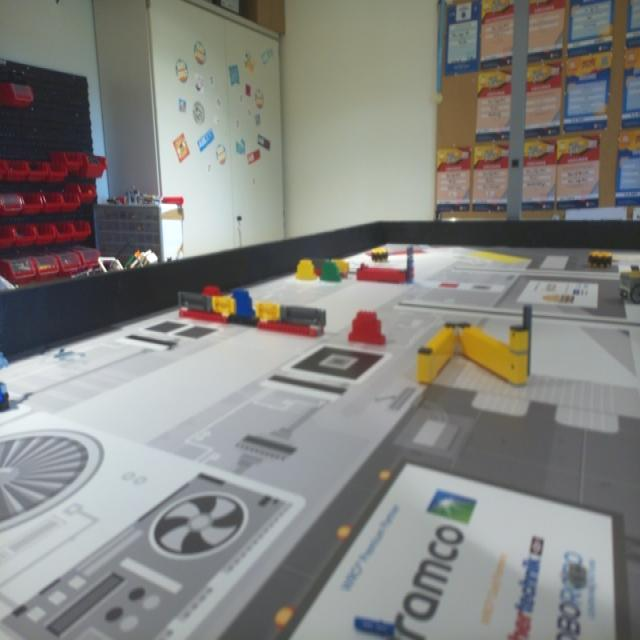blau: (228, 286, 256, 323)
gruen: (317, 260, 343, 284)
rot: (346, 308, 389, 351), (199, 280, 223, 304)
yellow: (294, 256, 317, 286)
